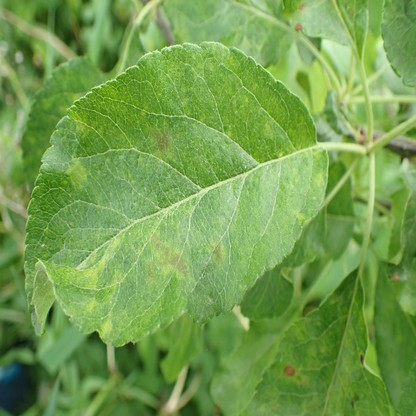frogeye_leaf_spot: (284, 366, 295, 377), (295, 23, 302, 32), (360, 353, 364, 365), (299, 4, 305, 9)
scab: (43, 43, 323, 332), (241, 293, 366, 413)
